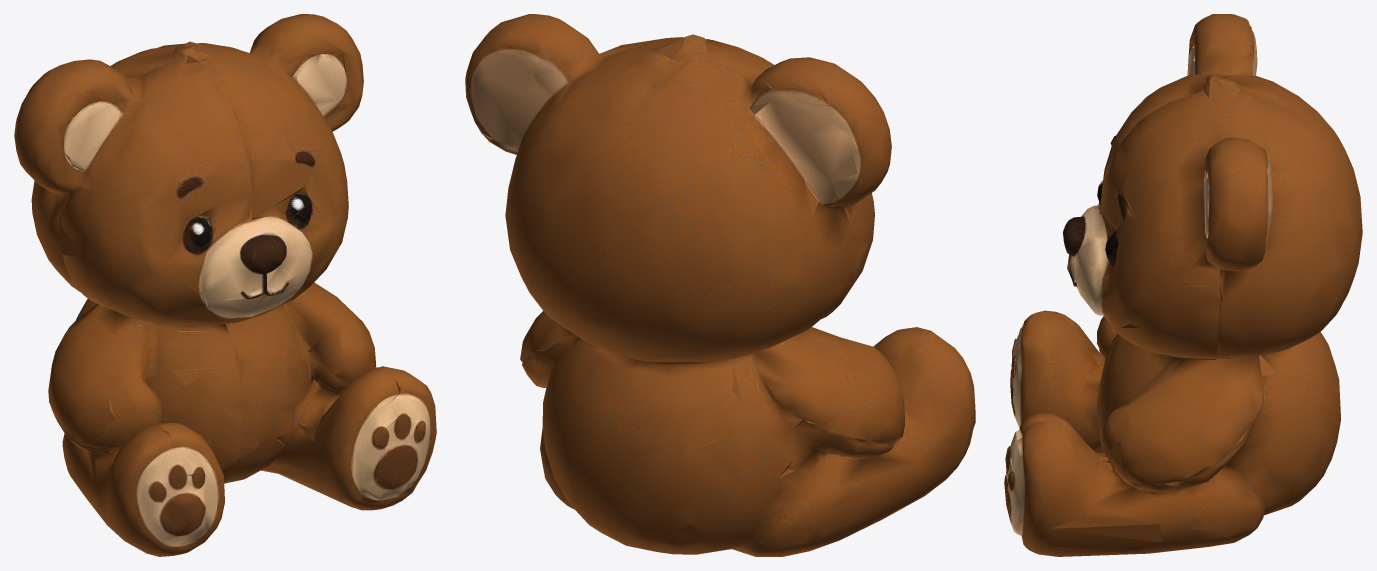
Rendered from teddy.gltf.
The picture shows the model from 3 angles, left to right: view 1: azimuth 30°, elevation 25°; view 2: azimuth 150°, elevation 25°; view 3: azimuth 270°, elevation 25°; orthographic projection. The views are drawn at different scales.
Visible parts, largest first — view 1: teddy; view 2: teddy; view 3: teddy.
Part boxes in pixels (box(x1,y1,x2,y2)): teddy: box(14, 14, 436, 556); teddy: box(465, 14, 975, 556); teddy: box(1004, 14, 1362, 556).
Size of the model in its own units: 0.8 by 0.9386 by 0.718.
1 material, 1 textured.
